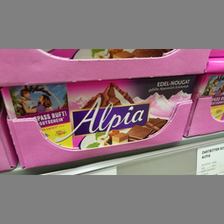chocolate: (3, 86, 195, 139)
